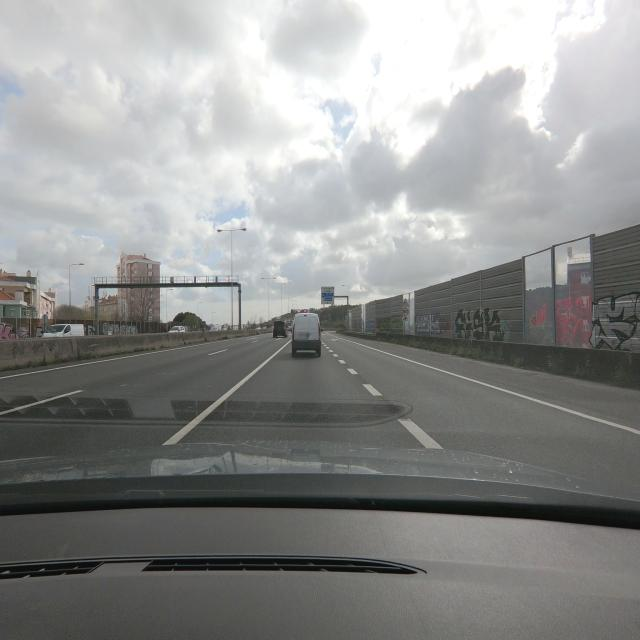car: (291, 311, 322, 357), (589, 326, 629, 350), (41, 322, 85, 338), (272, 319, 287, 338), (0, 322, 14, 339), (168, 325, 190, 334), (85, 326, 96, 336)
